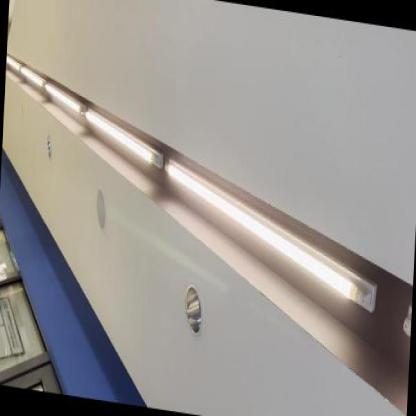light_on: (155, 149, 384, 331), (81, 101, 168, 177), (40, 79, 83, 117), (19, 66, 48, 88), (5, 54, 19, 73)
